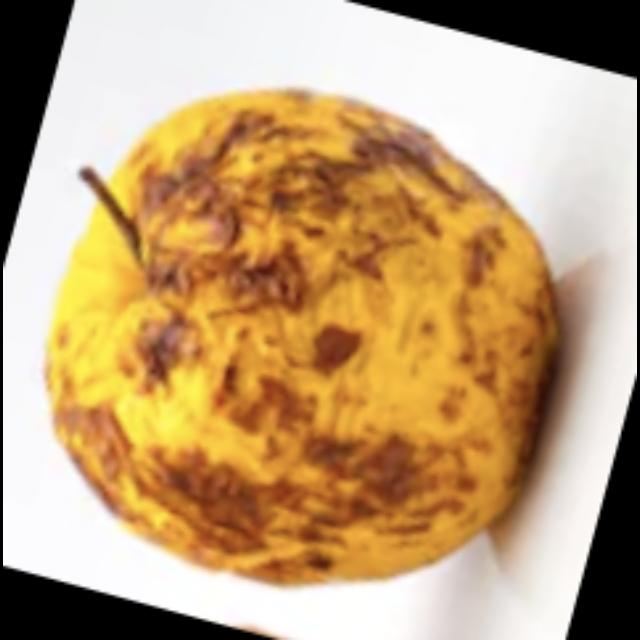Apel Tidak Segar: (40, 89, 578, 594)
